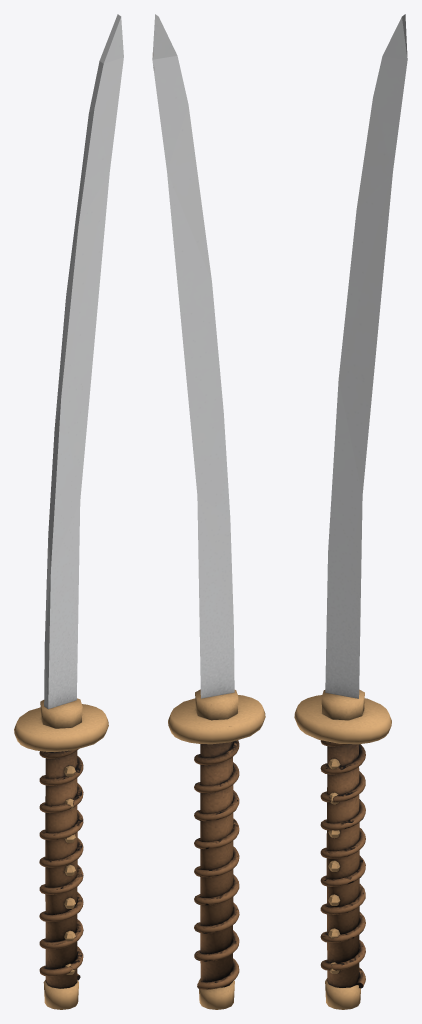
Rendered from arma_katana_refinada.glb.
The picture shows the model from 3 angles, left to right: view 1: azimuth 30°, elevation 25°; view 2: azimuth 210°, elevation 25°; view 3: azimuth 330°, elevation 25°; orthographic projection. The views are drawn at different scales.
Parts seen in each view (by area): view 1: arma_katana_refinada; view 2: arma_katana_refinada; view 3: arma_katana_refinada.
Boxes of the visible parts, x1,y1,x2,y2 form: arma_katana_refinada: [14, 14, 123, 1009]; arma_katana_refinada: [152, 14, 265, 1009]; arma_katana_refinada: [294, 14, 407, 1009].
Size of the model in its own units: 0.1174 by 1.04 by 0.0768.
1 material, 1 textured.
